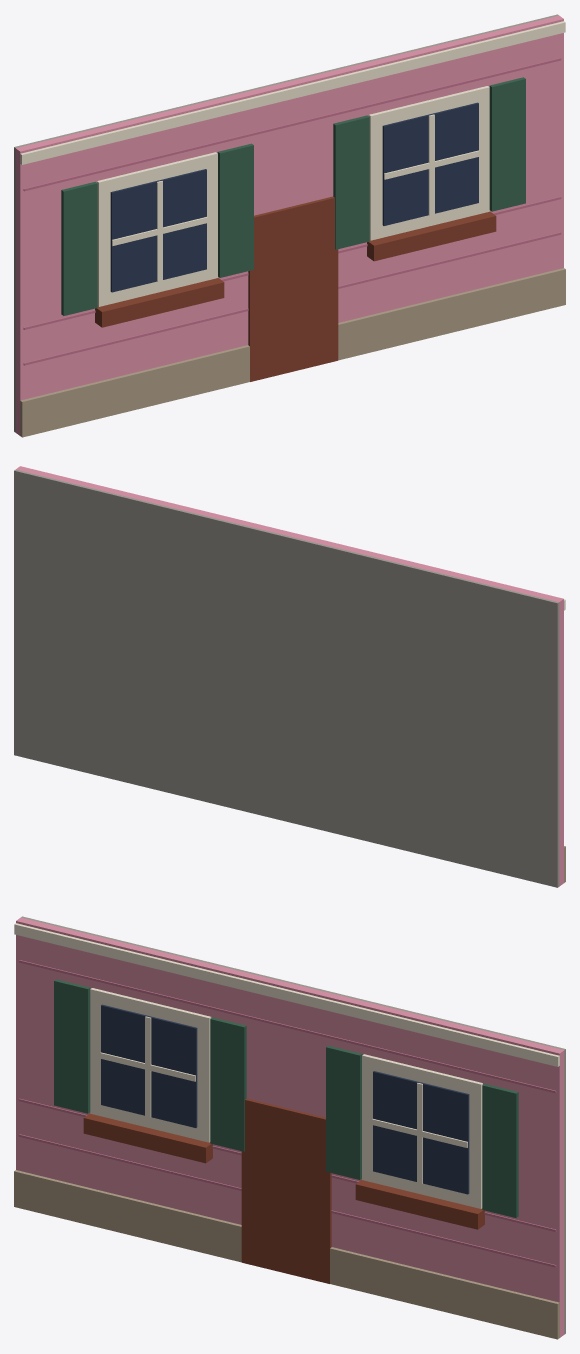
Rendered from chalet_front.glb.
3 views of the same model, one above another, from view 1: azimuth 30°, elevation 25°; view 2: azimuth 150°, elevation 25°; view 3: azimuth 330°, elevation 25° (orthographic).
Visible parts, largest first — view 1: chalet_front; view 2: chalet_front; view 3: chalet_front.
Boxes of the visible parts, x1,y1,x2,y2 form: chalet_front: [14, 14, 565, 437]; chalet_front: [14, 466, 565, 887]; chalet_front: [14, 916, 565, 1339].
Bounding box in the file's own units: 8 × 4 × 0.34.
